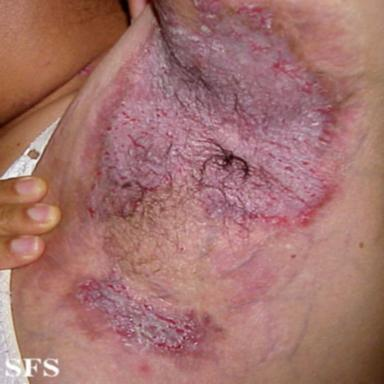Hailey-Hailey-Disease: (92, 0, 333, 223), (78, 280, 201, 351)
